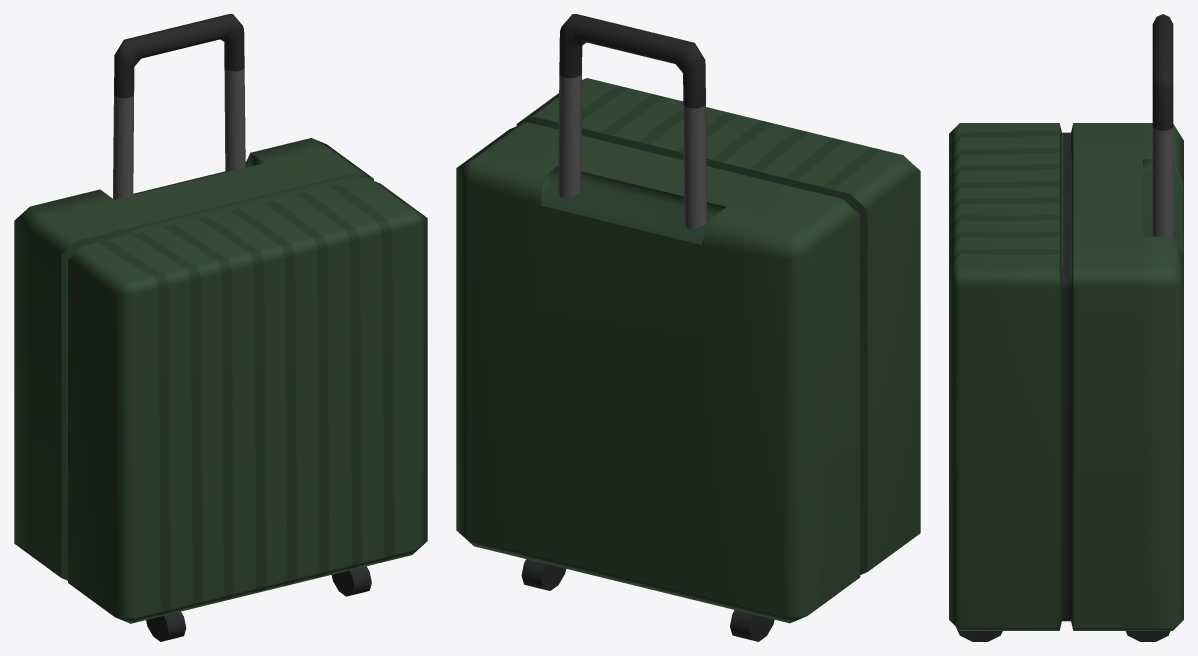
The model's file is M_bag2.fbx.
3 views of the same model, side by side, from view 1: azimuth 30°, elevation 25°; view 2: azimuth 150°, elevation 25°; view 3: azimuth 270°, elevation 25° (orthographic). The views are drawn at different scales.
Visible parts, largest first — view 1: pCylinder6; view 2: pCylinder6; view 3: pCylinder6.
Part boxes in pixels (x1,y1,x2,y2): pCylinder6: [14, 14, 427, 641]; pCylinder6: [456, 14, 920, 641]; pCylinder6: [949, 14, 1183, 641].
Size of the model in its own units: 56.15 by 89.6 by 34.56.
1 material, 1 textured.
